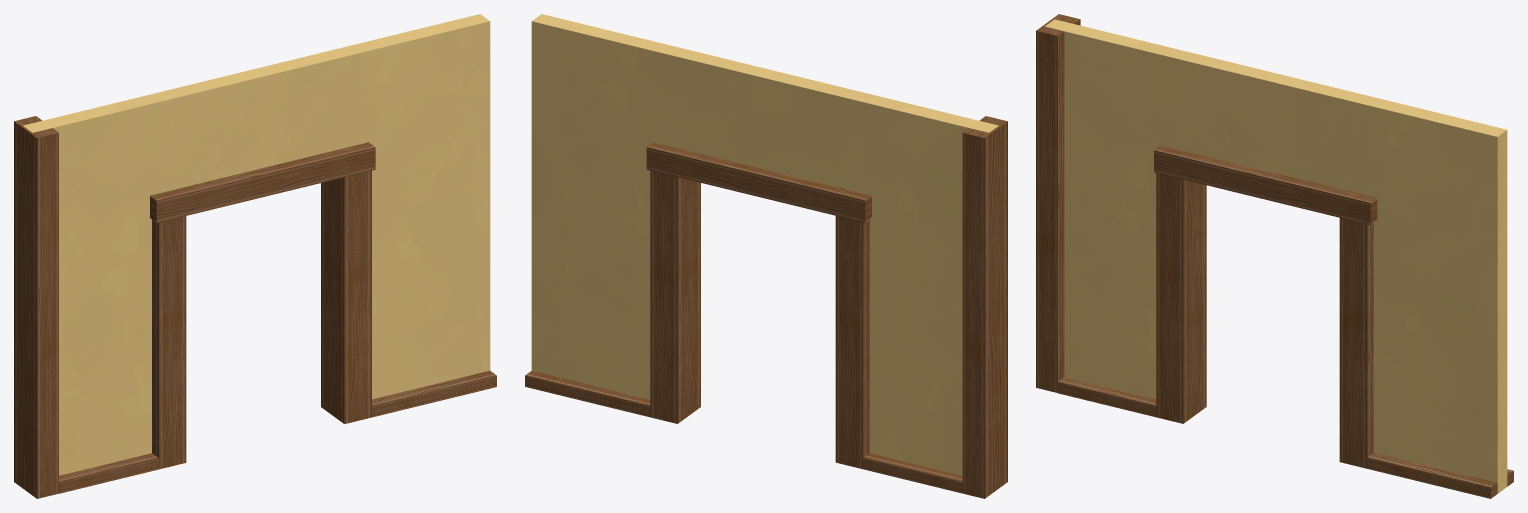
The model's file is SM_Door_Wall_01_wsand.glb.
3 views of the same model, side by side, from view 1: azimuth 30°, elevation 25°; view 2: azimuth 150°, elevation 25°; view 3: azimuth 330°, elevation 25° (orthographic).
Visible parts, largest first — view 1: SM_Door_Wall_01; view 2: SM_Door_Wall_01; view 3: SM_Door_Wall_01.
Part boxes in pixels (x1,y1,x2,y2): SM_Door_Wall_01: [14, 14, 496, 498]; SM_Door_Wall_01: [525, 14, 1007, 498]; SM_Door_Wall_01: [1036, 14, 1513, 498].
Bounding box in the file's own units: 4 × 3 × 0.3524.
Materials: 2 (2 with a texture image).
